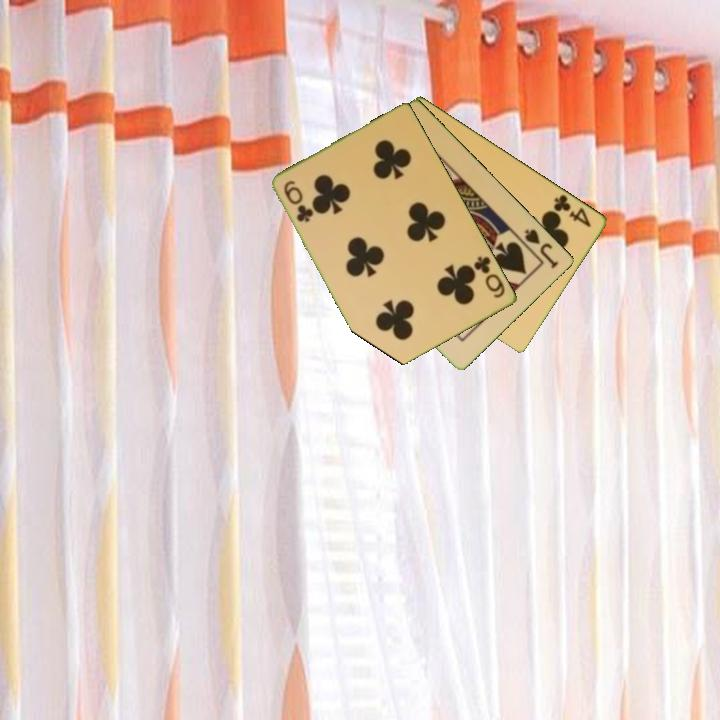4c: (550, 191, 594, 230)
6c: (471, 253, 508, 301), (280, 177, 316, 225)
Js: (521, 225, 562, 271)
